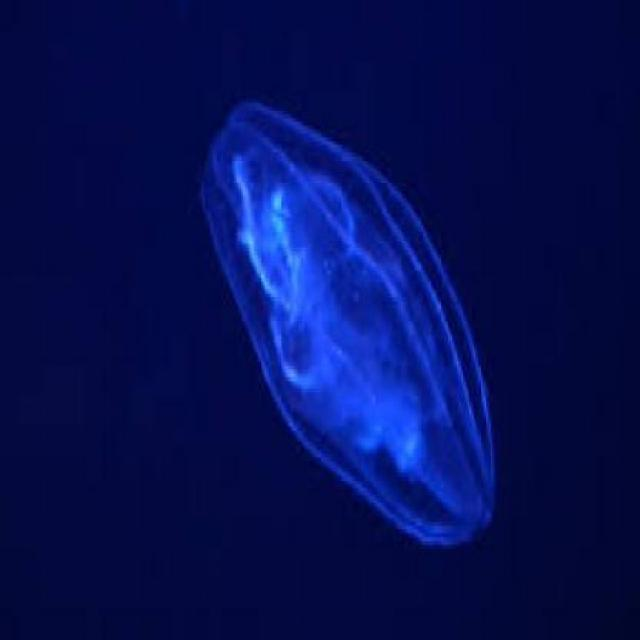Jellyfish: (194, 88, 503, 560)
